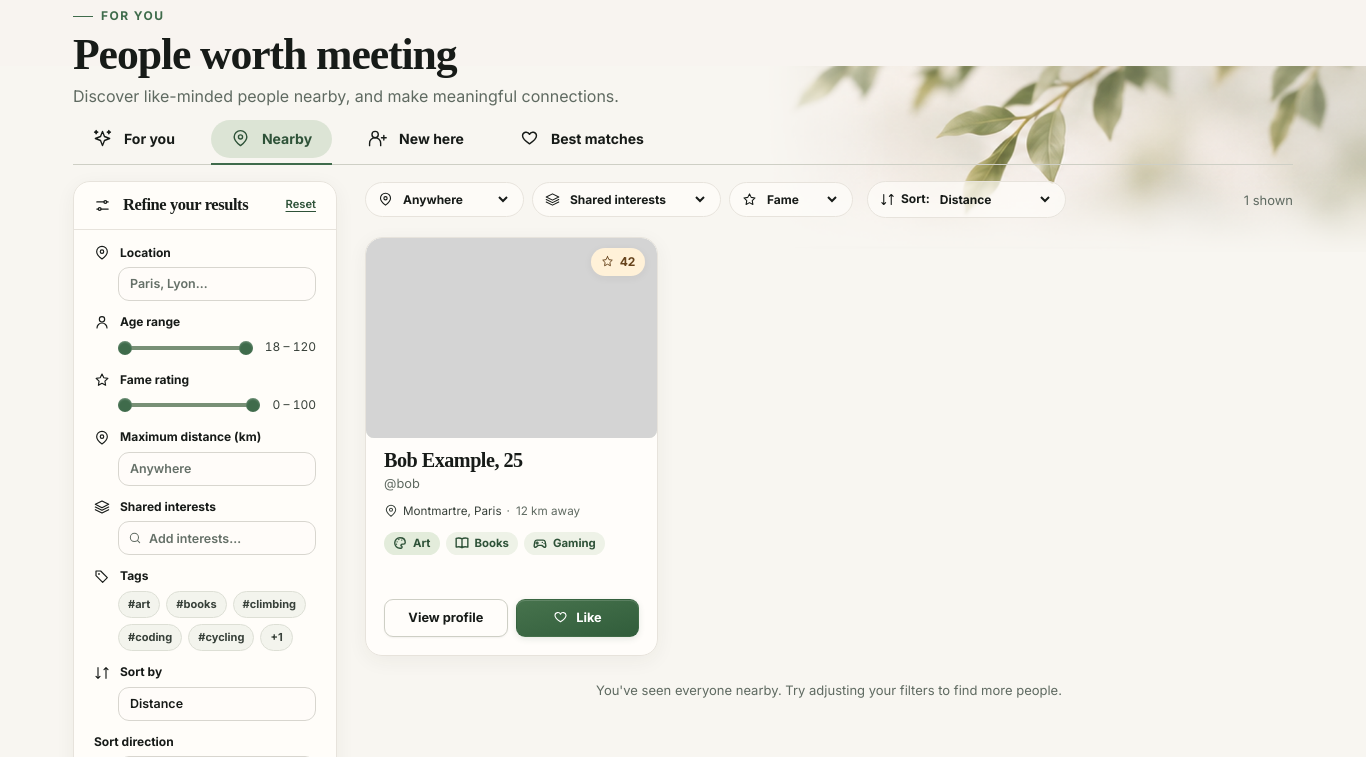
it: interest search finds selectable tags and like feedback stays correct
Expected: the heading "Bob Example, 25" is shown, [384,448,523,473]
Type "book" into the field named "Find interest tags".
click(217, 538); type("book")  # box [118,522,316,556]
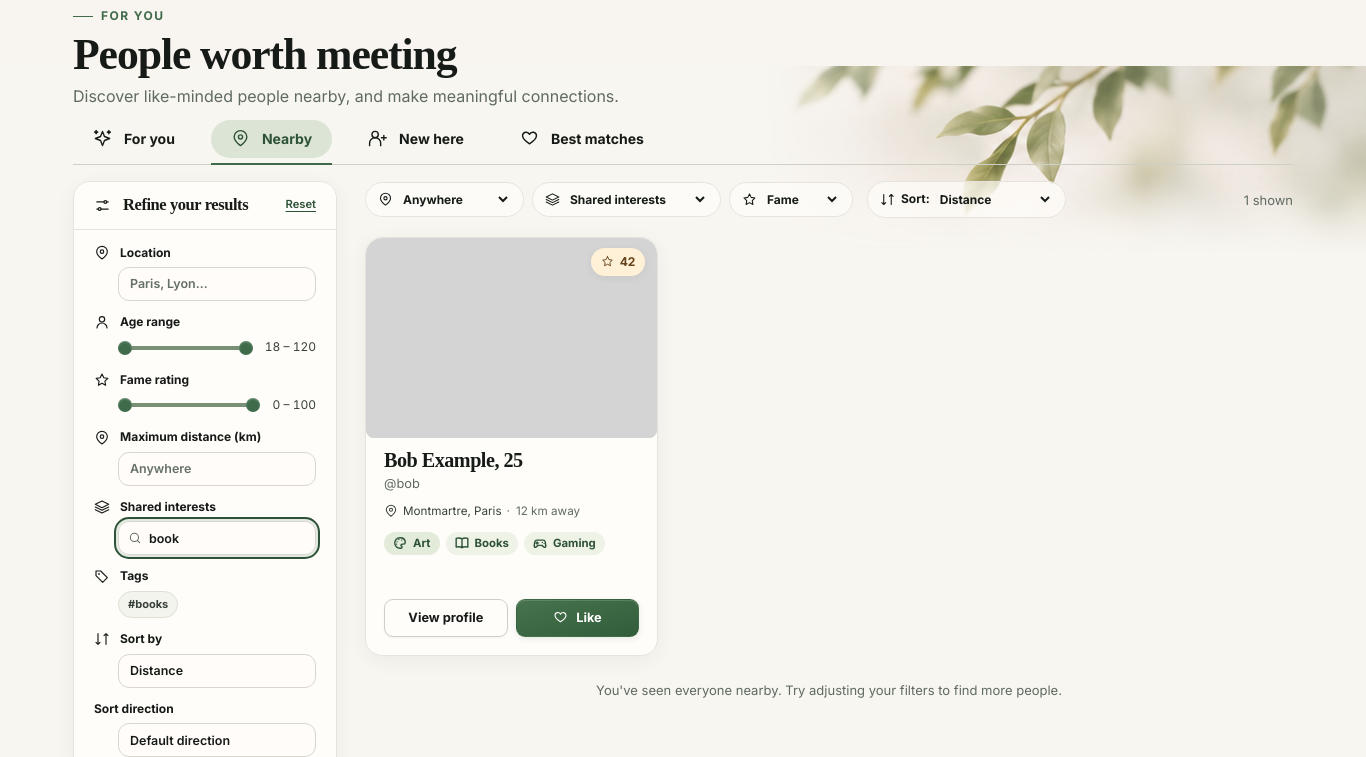
Click the button "#books".
click(148, 605)  # box [118,591,178,618]
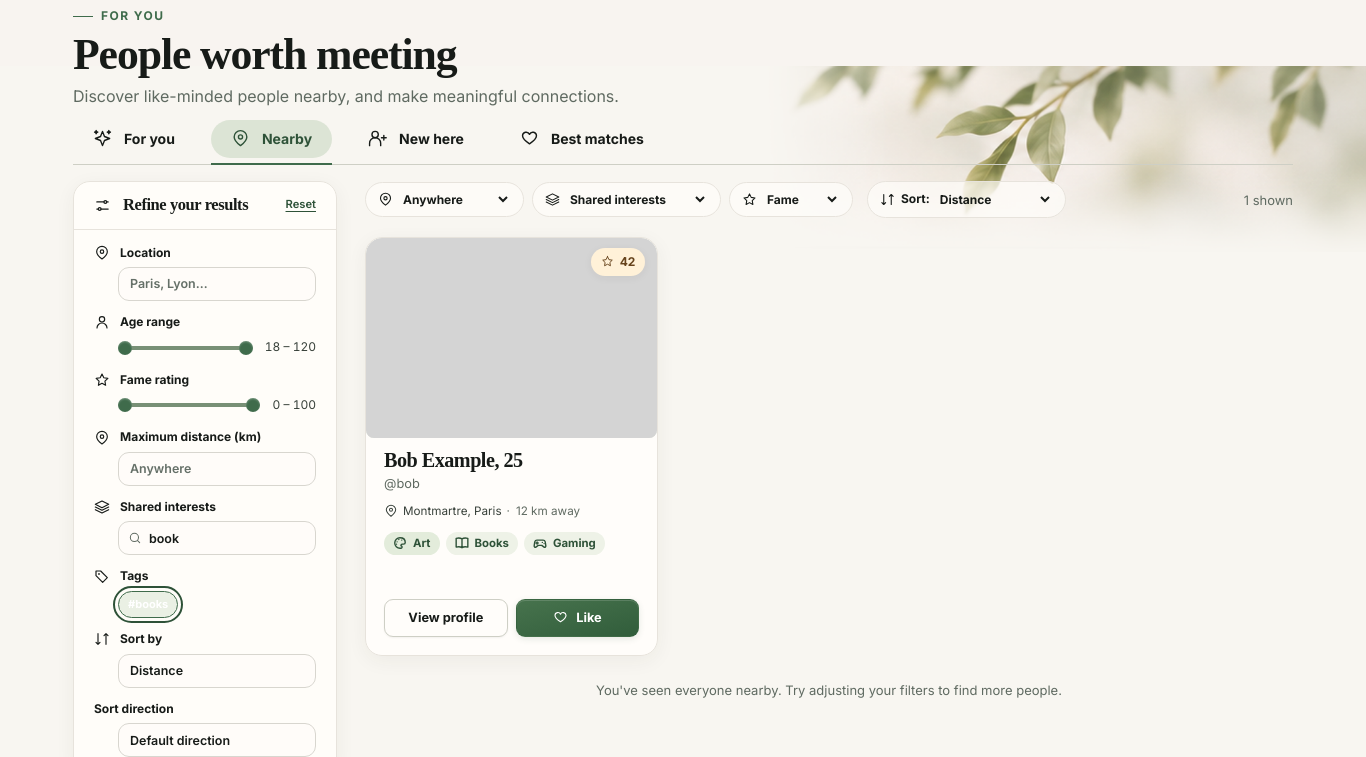
Result: the button "#books" is pressed at [118,591,178,618]
Click the button "Like".
click(578, 618)  # box [516,599,639,637]
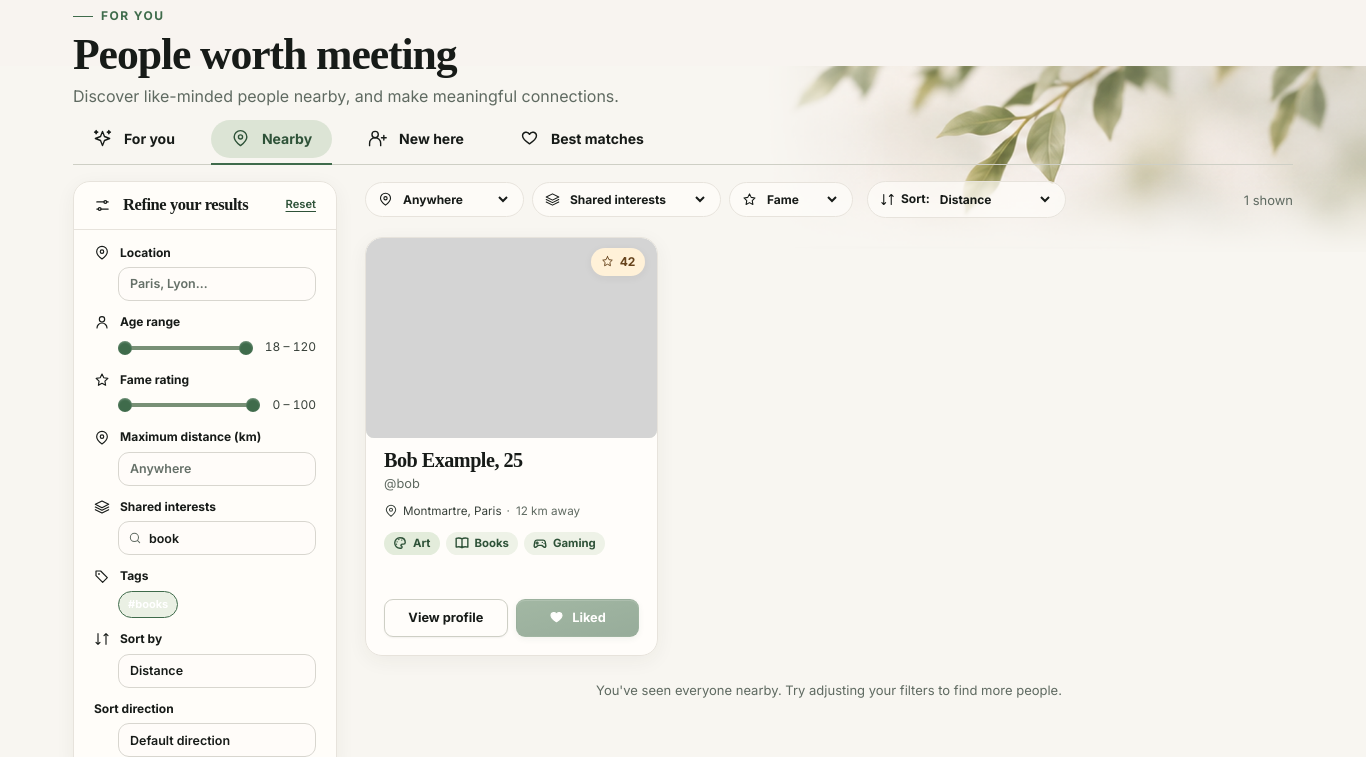
Result: the button "Liked" is disabled at [516,599,639,637]
